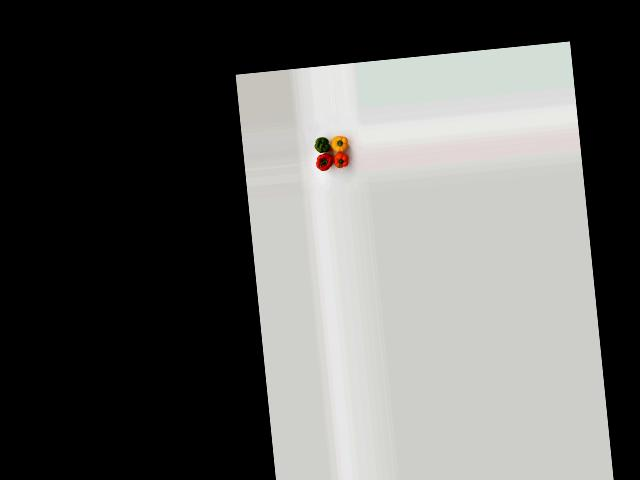bell_pepper: (312, 131, 332, 157)
